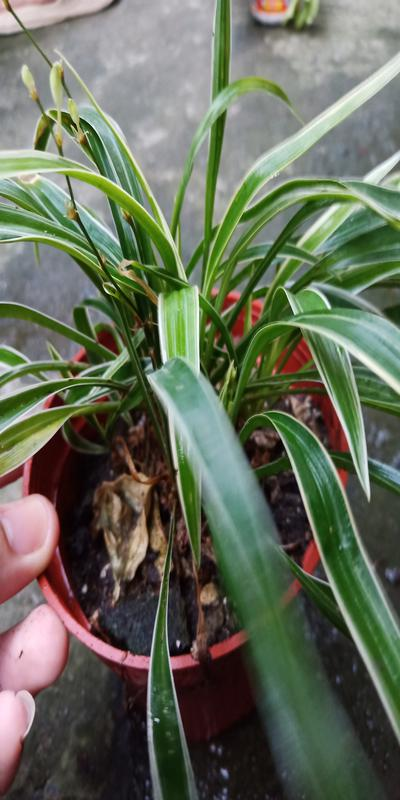Yellow and green leaf: (11, 141, 393, 663)
